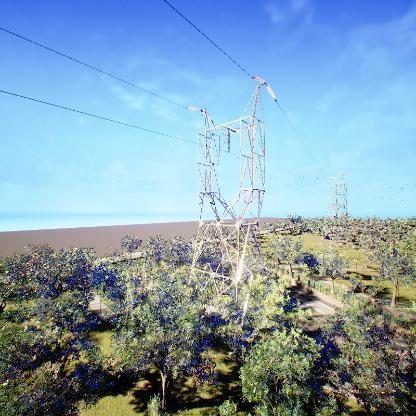tower: (184, 74, 278, 314), (321, 171, 350, 240)
